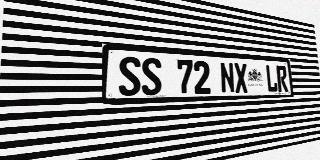2: (193, 60, 211, 94)
7: (176, 59, 194, 95)
L: (265, 65, 278, 92)
N: (219, 62, 235, 93)
R: (276, 65, 288, 92)
S: (118, 56, 141, 96), (141, 57, 162, 96)
X: (234, 63, 248, 93)
